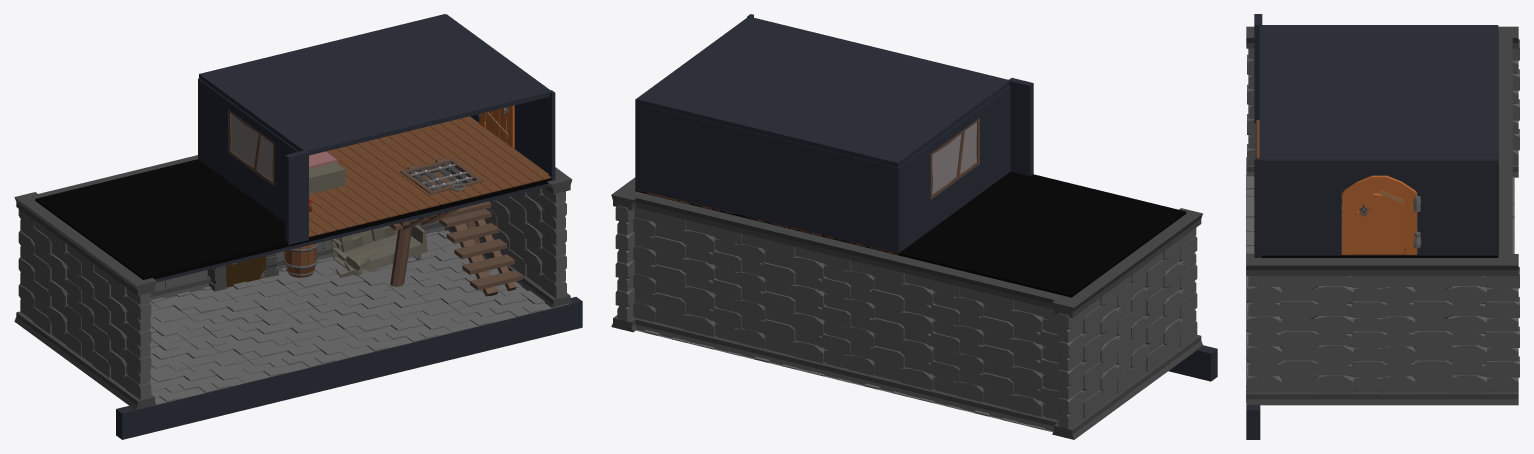
The model's file is DA_GameMAP_Bolum1 (5).fbx.
3 views of the same model, side by side, from view 1: azimuth 30°, elevation 25°; view 2: azimuth 150°, elevation 25°; view 3: azimuth 270°, elevation 25° (orthographic). The views are drawn at different scales.
Parts seen in each view (by area): view 1: DosemeTas, OdaTavan, OdaZemin, TasDuvar1, TahtaDöseme, YerAlti, TasDuvar3, OdaSolDuvar, Koltuk, TasDuvar2, OdaSagDuvar, BinaSütun.002 (+15 smaller); view 2: TasDuvar2, OdaTavan, OdaArkaDuvar, OdaZemin, TasDuvar1, OdaSolDuvar, TasDuvar3, OdaPencere, BinaSütun.002, YerAlti, DosemeTas; view 3: TasDuvar3, OdaTavan, OdaSagDuvar, Kapi, TasDuvar2, TasDuvar1, DosemeTas, BinaSütun, OdaZemin, BinaSütun.002, YerAlti, TahtaDöseme.
Part boxes in pixels (left/top/right/bottom): DosemeTas: left=149, top=230, right=568, bottom=405; OdaTavan: left=199, top=14, right=549, bottom=155; OdaZemin: left=35, top=159, right=551, bottom=279; TasDuvar1: left=14, top=192, right=156, bottom=409; TahtaDöseme: left=309, top=116, right=551, bottom=237; YerAlti: left=116, top=297, right=582, bottom=439; TasDuvar3: left=445, top=167, right=572, bottom=307; OdaSolDuvar: left=198, top=78, right=298, bottom=222; Koltuk: left=331, top=225, right=427, bottom=277; TasDuvar2: left=29, top=155, right=445, bottom=300; OdaSagDuvar: left=446, top=14, right=549, bottom=173; BinaSütun.002: left=285, top=150, right=308, bottom=244; TasDuvar2: left=623, top=191, right=1070, bottom=431; OdaTavan: left=637, top=17, right=1009, bottom=167; OdaArkaDuvar: left=637, top=104, right=897, bottom=253; OdaZemin: left=635, top=171, right=1186, bottom=297; TasDuvar1: left=1052, top=208, right=1202, bottom=439; OdaSolDuvar: left=898, top=86, right=1010, bottom=253; TasDuvar3: left=611, top=177, right=640, bottom=332; OdaPencere: left=930, top=118, right=979, bottom=199; BinaSütun.002: left=1008, top=78, right=1033, bottom=176; YerAlti: left=1168, top=345, right=1217, bottom=381; DosemeTas: left=635, top=329, right=1053, bottom=432; TasDuvar3: left=1246, top=254, right=1519, bottom=405; OdaTavan: left=1259, top=25, right=1498, bottom=160; OdaSagDuvar: left=1262, top=160, right=1498, bottom=255; Kapi: left=1342, top=175, right=1416, bottom=254; TasDuvar2: left=1485, top=33, right=1512, bottom=260; TasDuvar1: left=1246, top=26, right=1519, bottom=177; DosemeTas: left=1246, top=175, right=1514, bottom=402; BinaSütun: left=1254, top=158, right=1262, bottom=257; OdaZemin: left=1256, top=121, right=1498, bottom=257; BinaSütun.002: left=1254, top=14, right=1262, bottom=123; YerAlti: left=1246, top=404, right=1260, bottom=439; TahtaDöseme: left=1256, top=120, right=1417, bottom=255.
Size of the model in its own units: 2248 by 1111 by 1033.
